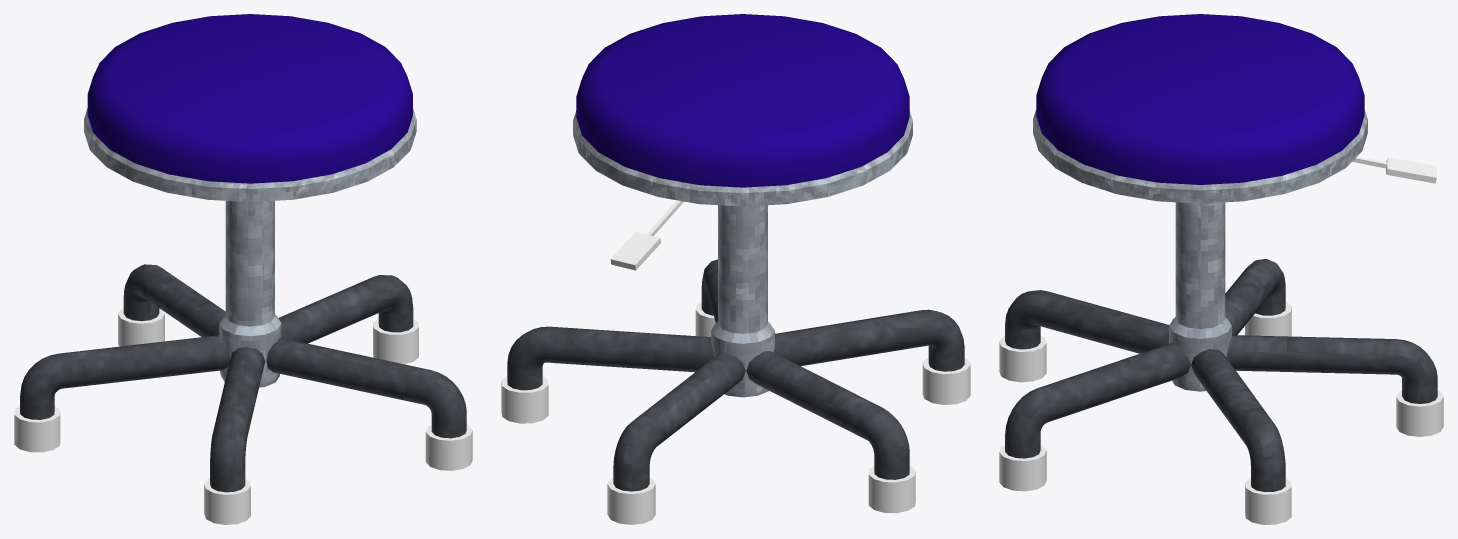
The model's file is science_chair.glb.
3 views of the same model, side by side, from view 1: azimuth 30°, elevation 25°; view 2: azimuth 150°, elevation 25°; view 3: azimuth 270°, elevation 25° (orthographic). The views are drawn at different scales.
Visible parts, largest first — view 1: SmallChairTop, SmallChair; view 2: SmallChairTop, SmallChair, Thing; view 3: SmallChairTop, SmallChair, Thing.
Part boxes in pixels (x1=…): SmallChairTop: x1=84, y1=14, x2=416, y2=201; SmallChair: x1=14, y1=200, x2=472, y2=524; SmallChairTop: x1=573, y1=14, x2=912, y2=206; SmallChair: x1=501, y1=205, x2=970, y2=524; Thing: x1=610, y1=200, x2=683, y2=270; SmallChairTop: x1=1033, y1=14, x2=1367, y2=203; SmallChair: x1=999, y1=202, x2=1443, y2=524; Thing: x1=1352, y1=156, x2=1436, y2=183.
Bounding box in the file's own units: 0.2803 × 0.235 × 0.2685.
4 materials, 2 textured.
